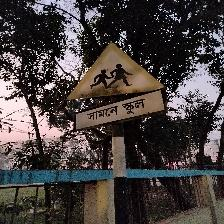School-in-front: (67, 41, 167, 133)
